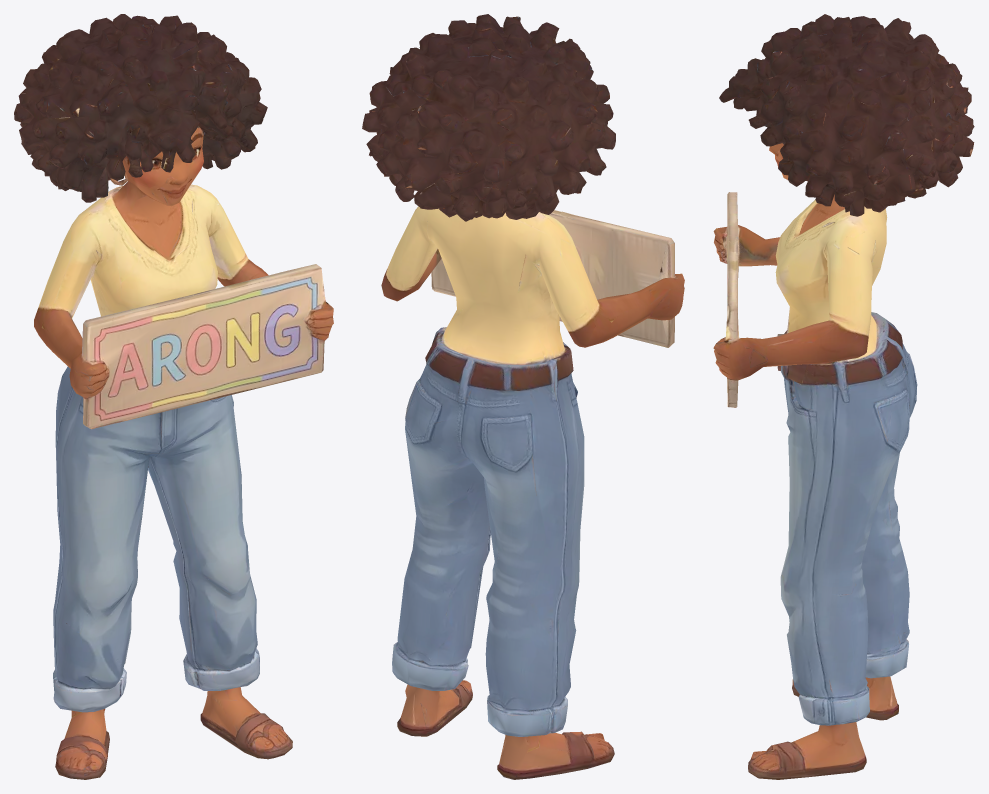
File: arong.glb
3 renders of one model, left to right at view 1: azimuth 30°, elevation 25°; view 2: azimuth 150°, elevation 25°; view 3: azimuth 270°, elevation 25°, orthographic. The views are drawn at different scales.
Parts seen in each view (by area): view 1: ar-normalized; view 2: ar-normalized; view 3: ar-normalized.
Boxes of the visible parts, left/top/right/bottom form: ar-normalized: left=14, top=14, right=333, bottom=779; ar-normalized: left=362, top=14, right=684, bottom=779; ar-normalized: left=713, top=14, right=974, bottom=779.
Size of the model in its own units: 0.3786 by 1 by 0.3363.
1 material, 1 textured.
